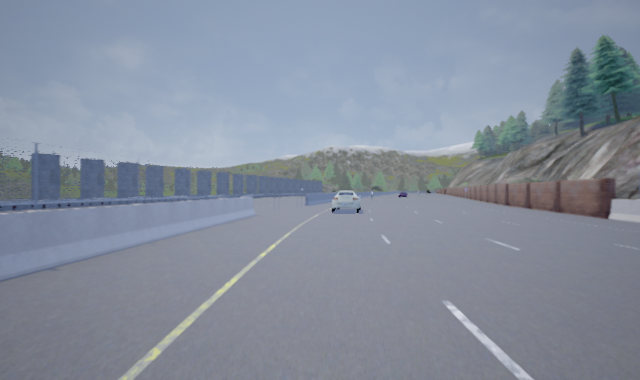vehicle: (330, 190, 361, 213)
